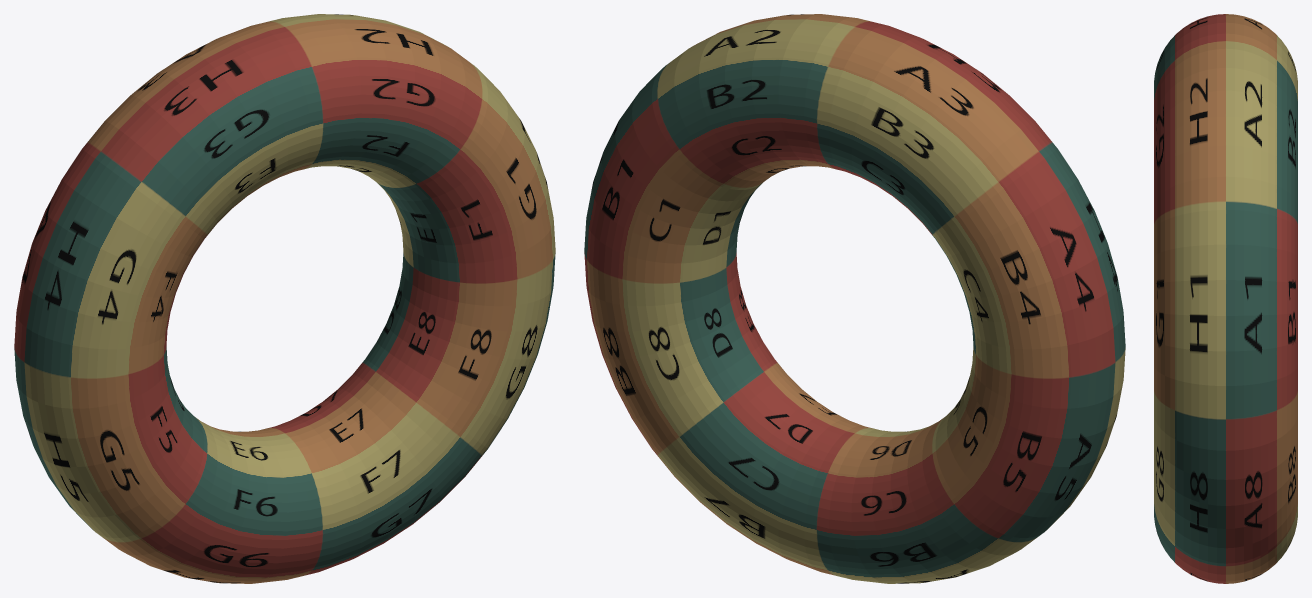
The model's file is texture_torus_R21_r23.glb.
3 views of the same model, side by side, from view 1: azimuth 30°, elevation 25°; view 2: azimuth 150°, elevation 25°; view 3: azimuth 270°, elevation 25° (orthographic). The views are drawn at different scales.
Parts seen in each view (by area): view 1: world; view 2: world; view 3: world.
Part boxes in pixels (bbox=[...]): world: bbox=[14, 14, 555, 583]; world: bbox=[584, 14, 1125, 583]; world: bbox=[1154, 14, 1297, 583].
Size of the model in its own units: 32.13 by 32.07 by 8.12.
Materials: 1 (1 with a texture image).
